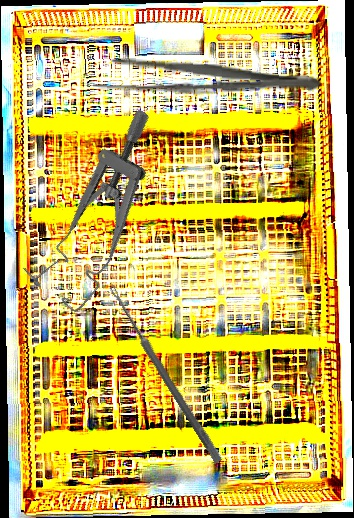Dressing Forceps: (92, 57, 323, 101)
Speculum: (8, 106, 204, 318)
Surgical Spoon: (106, 284, 224, 464)
